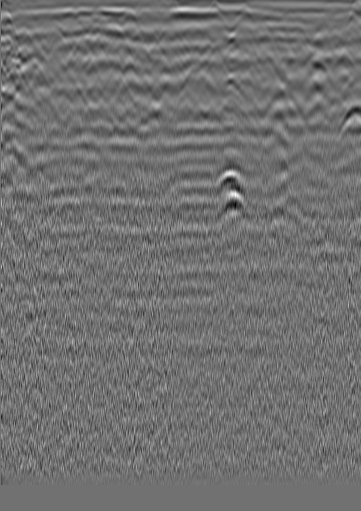가스: (211, 168, 246, 197)
상수: (310, 24, 330, 44)
오수: (10, 23, 50, 50)
우수: (156, 18, 176, 38)
